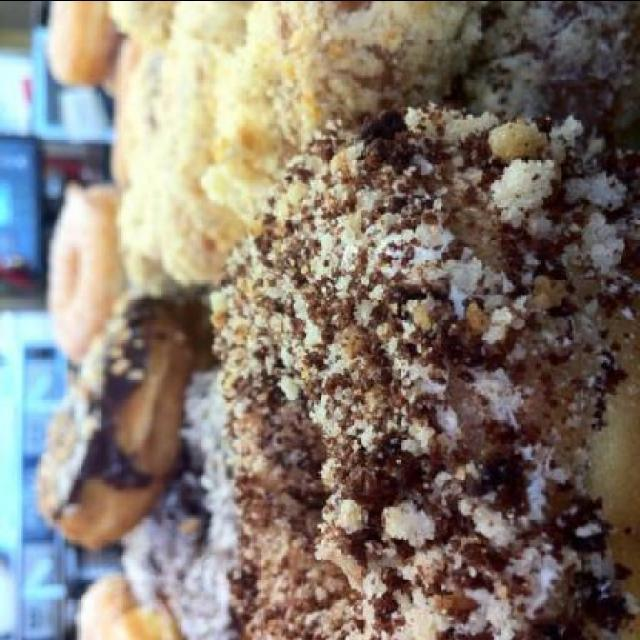Donuts: (1, 1, 619, 633)
